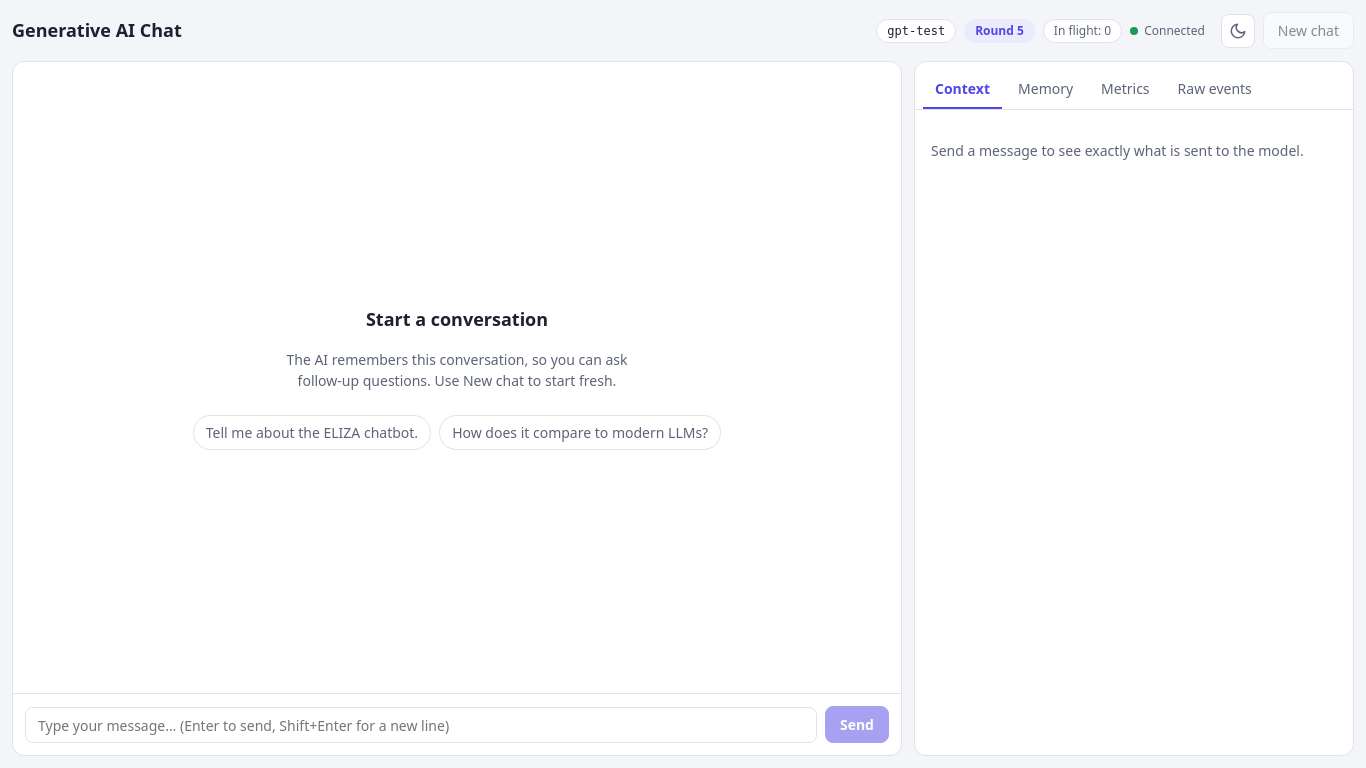
Test: streaming chat › shows the response chain, transcript mirror and token growth
Type "first" into the text box labelled "message".
click(421, 725); type("first")  # box x1=25 y1=707 x2=817 y2=743
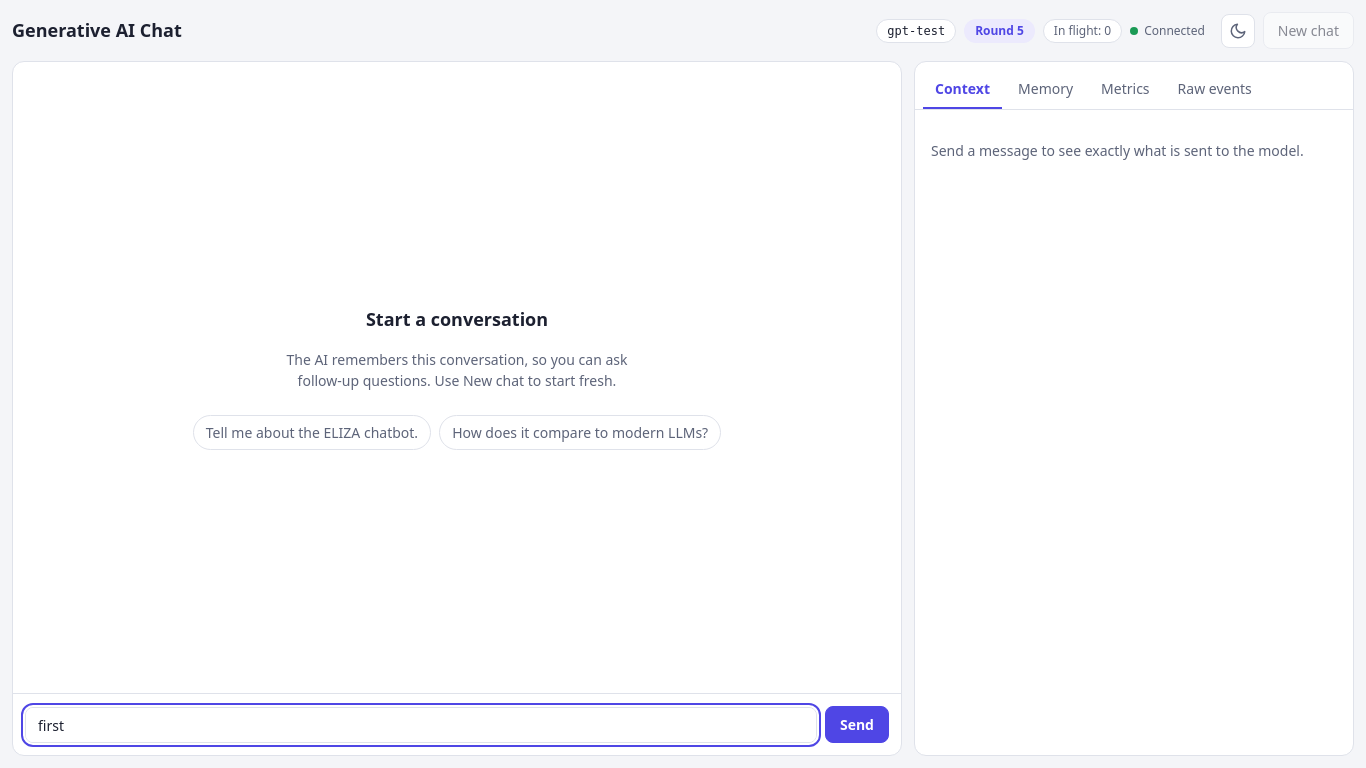
Expected: the button "Send" is enabled
Click the button "Send".
click(857, 724)  # box x1=825 y1=706 x2=889 y2=743
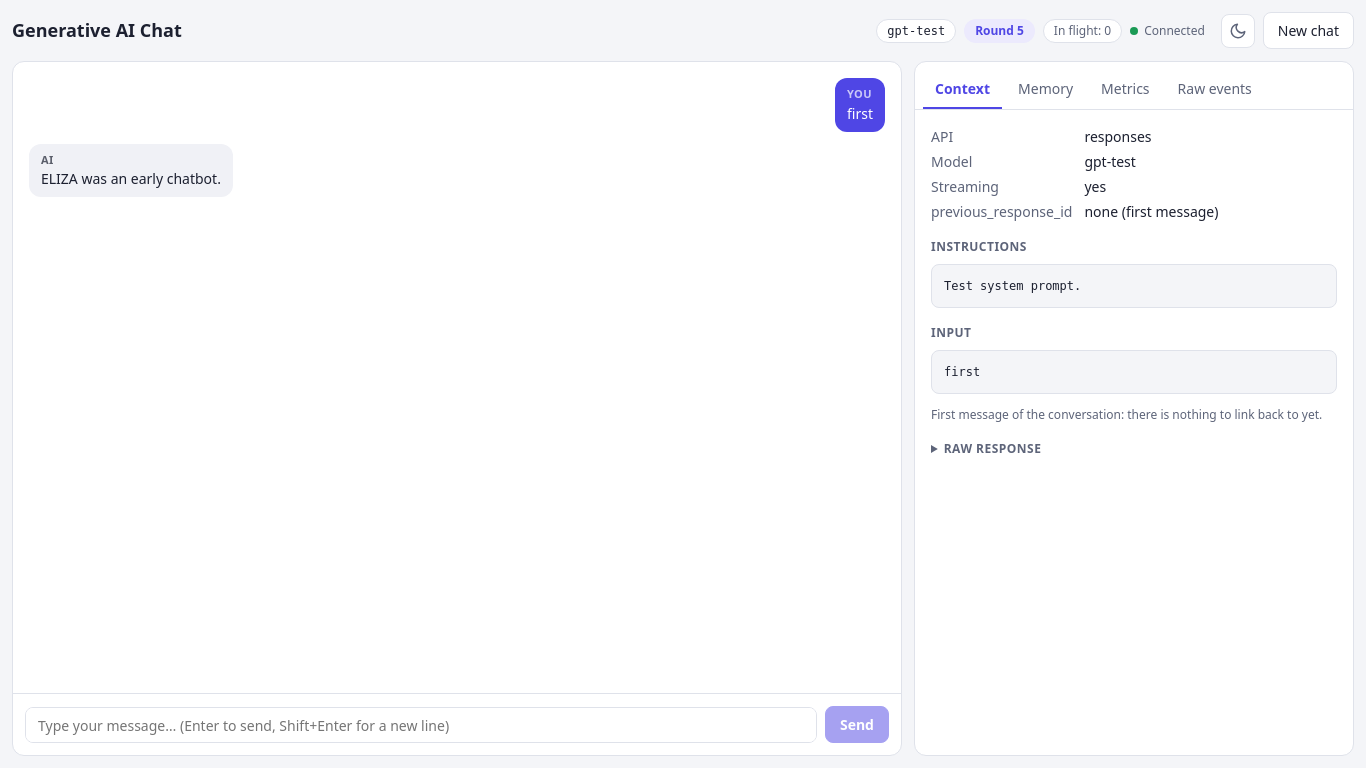
Expected: the text "ELIZA was an early chatbot." is shown, x1=41 y1=168 x2=221 y2=189
Type "second" into the text box labelled "message".
click(421, 725); type("second")  # box x1=25 y1=707 x2=817 y2=743
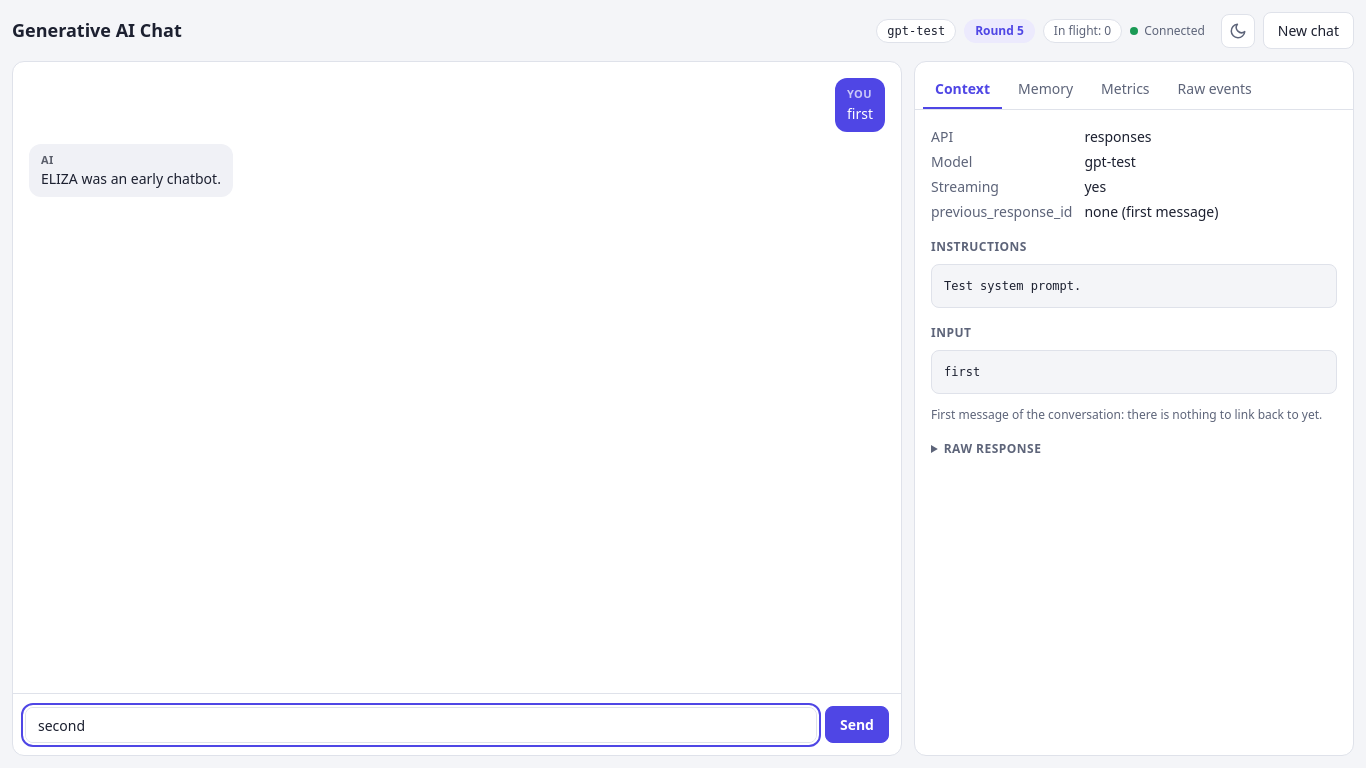
Expected: the button "Send" is enabled
Click the button "Send".
click(857, 724)  # box x1=825 y1=706 x2=889 y2=743
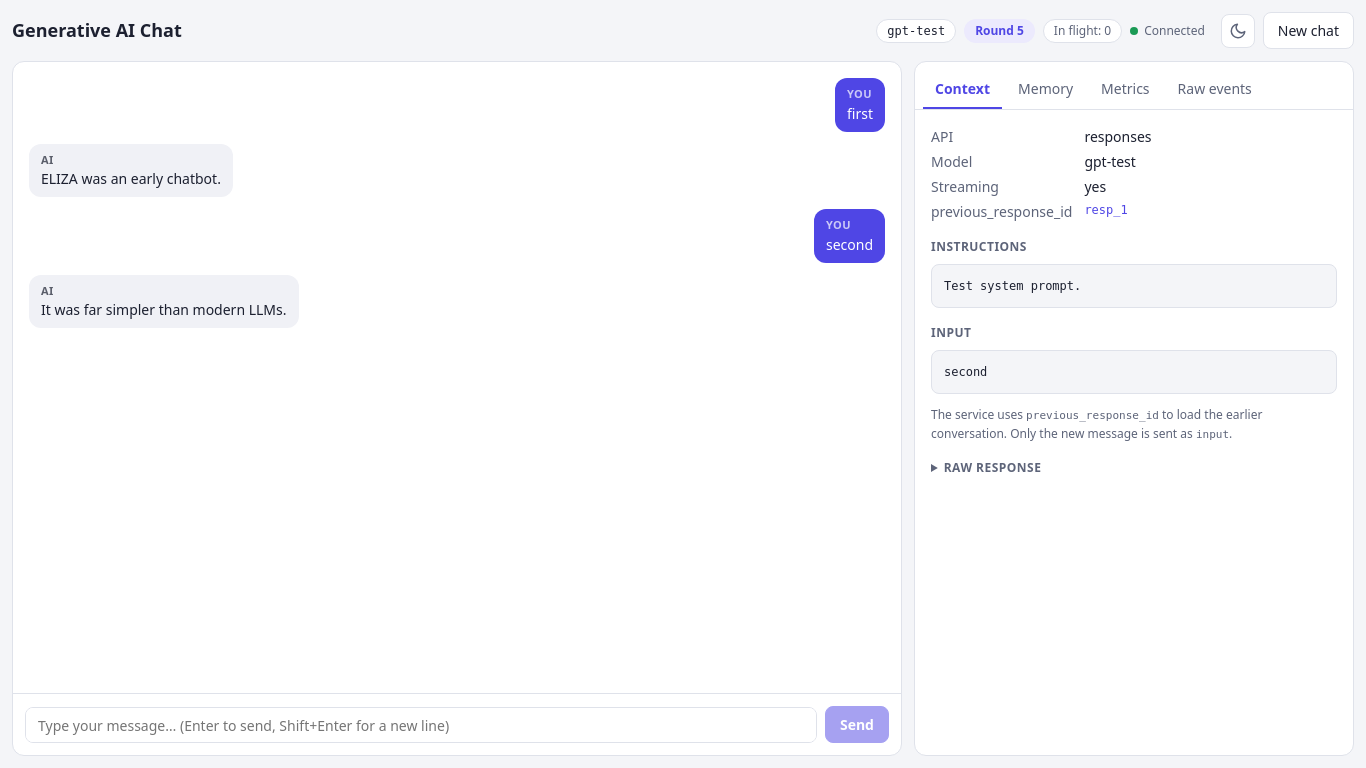
Expected: the text "It was far simpler than modern LLMs." is shown, x1=41 y1=299 x2=286 y2=320
Click the tab "Memory".
click(1046, 90)  # box x1=1006 y1=70 x2=1085 y2=109
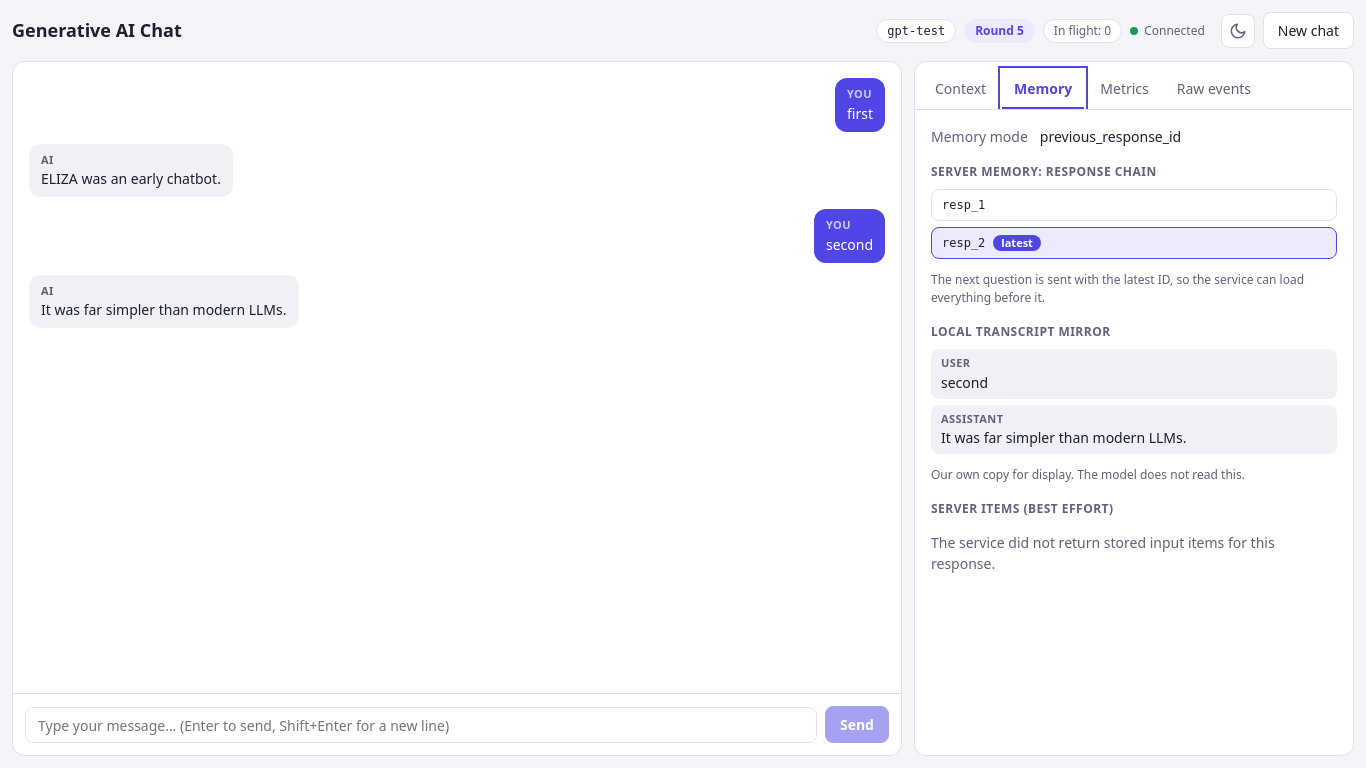
Expected: the text "resp_1" is shown, x1=942 y1=196 x2=985 y2=214
Expected: the text "resp_2" is shown, x1=942 y1=234 x2=985 y2=252
Expected: the text "latest" is shown, x1=993 y1=235 x2=1041 y2=251
Click the tab "Metrics".
click(1125, 90)  # box x1=1088 y1=70 x2=1161 y2=109
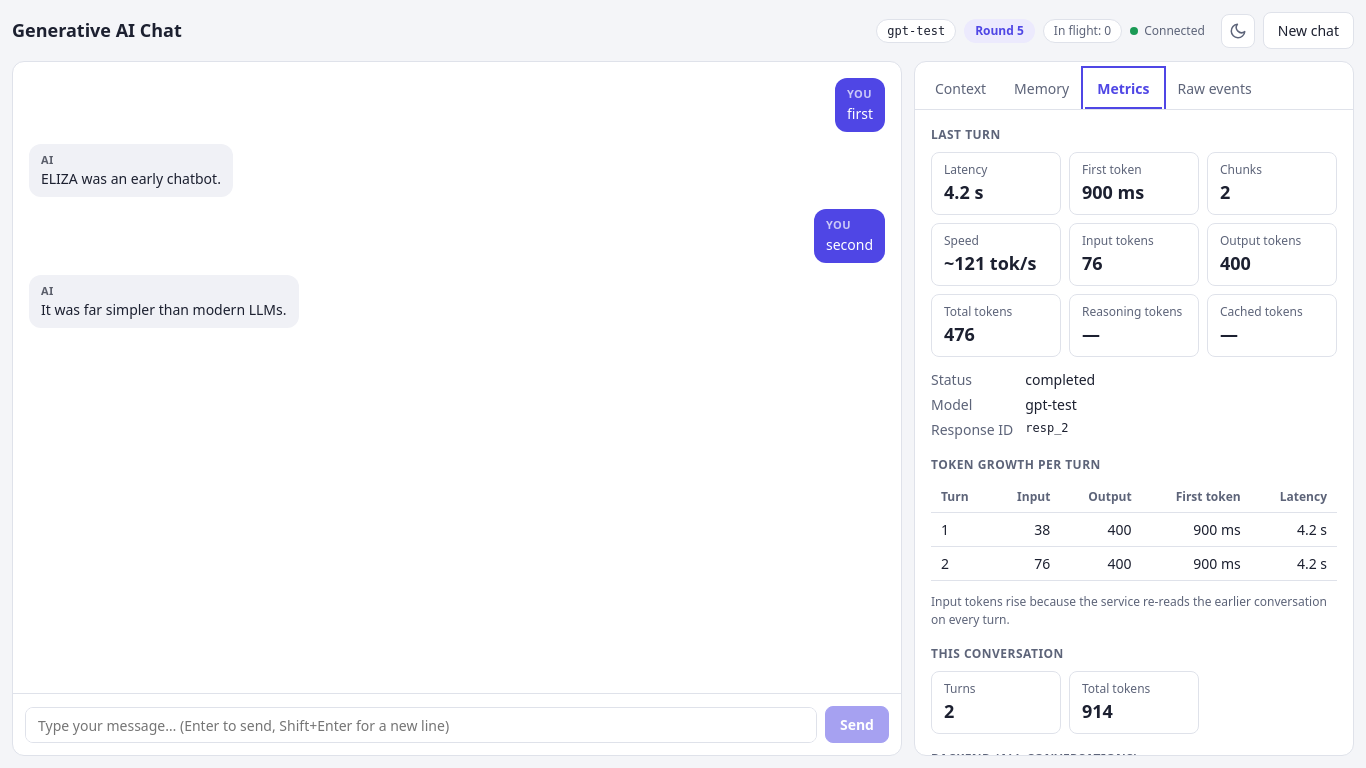
Expected: the row "1 38 400 900 ms 4.2 s" is shown, x1=931 y1=512 x2=1337 y2=546
Expected: the row "2 76 400 900 ms 4.2 s" is shown, x1=931 y1=546 x2=1337 y2=580
